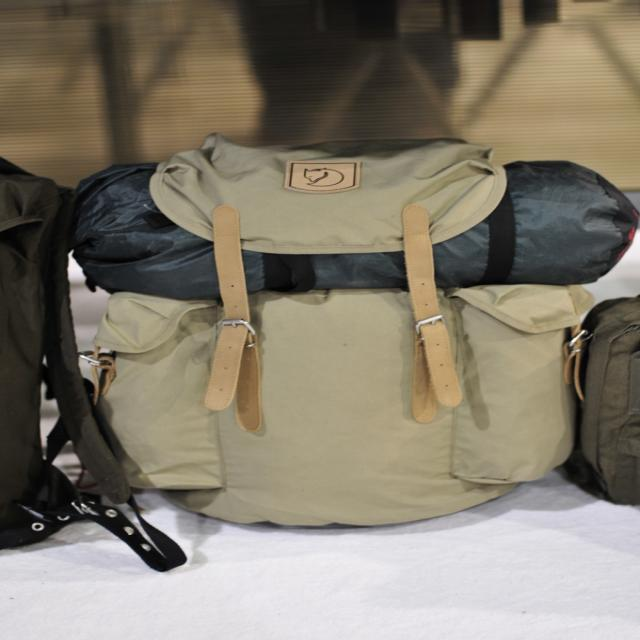backpack: (58, 138, 634, 530)
